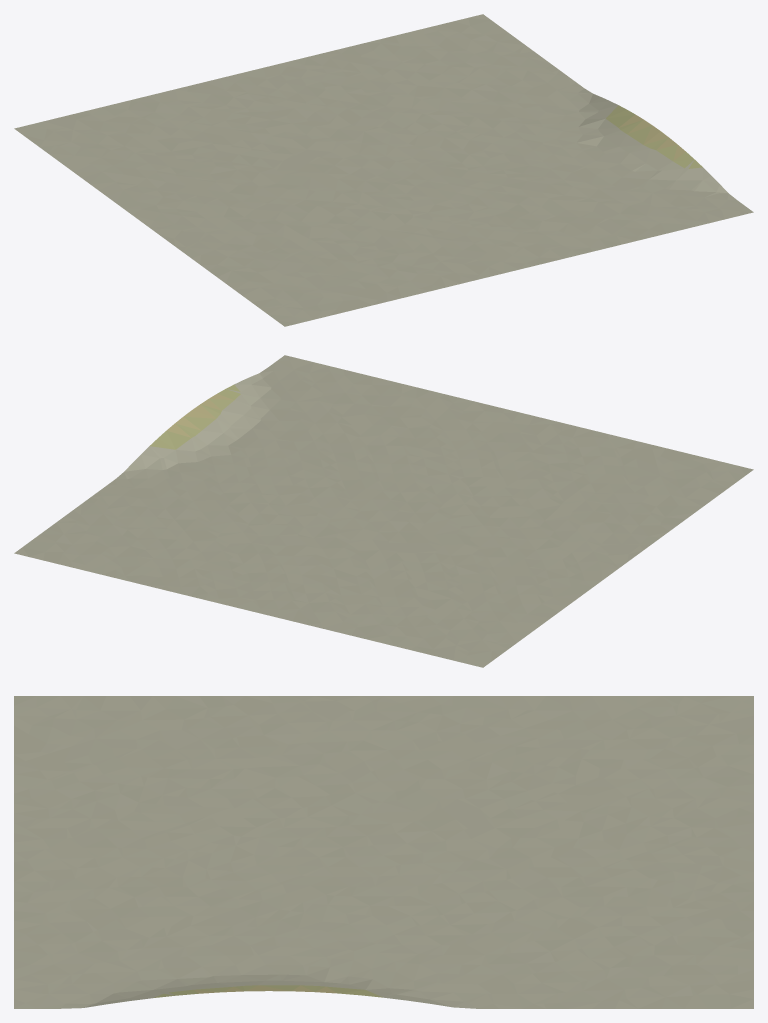
Rendered from Ground_-4_1.glb.
The picture shows the model from 3 angles, top to bottom: view 1: azimuth 30°, elevation 25°; view 2: azimuth 150°, elevation 25°; view 3: azimuth 270°, elevation 25°; orthographic projection. The views are drawn at different scales.
Parts seen in each view (by area): view 1: Ground_-4_1; view 2: Ground_-4_1; view 3: Ground_-4_1.
Part boxes in pixels (<box>): Ground_-4_1: <box>14,14,753,326</box>; Ground_-4_1: <box>14,355,753,667</box>; Ground_-4_1: <box>14,696,753,1008</box>.
Size of the model in its own units: 768 by 20.32 by 768.
